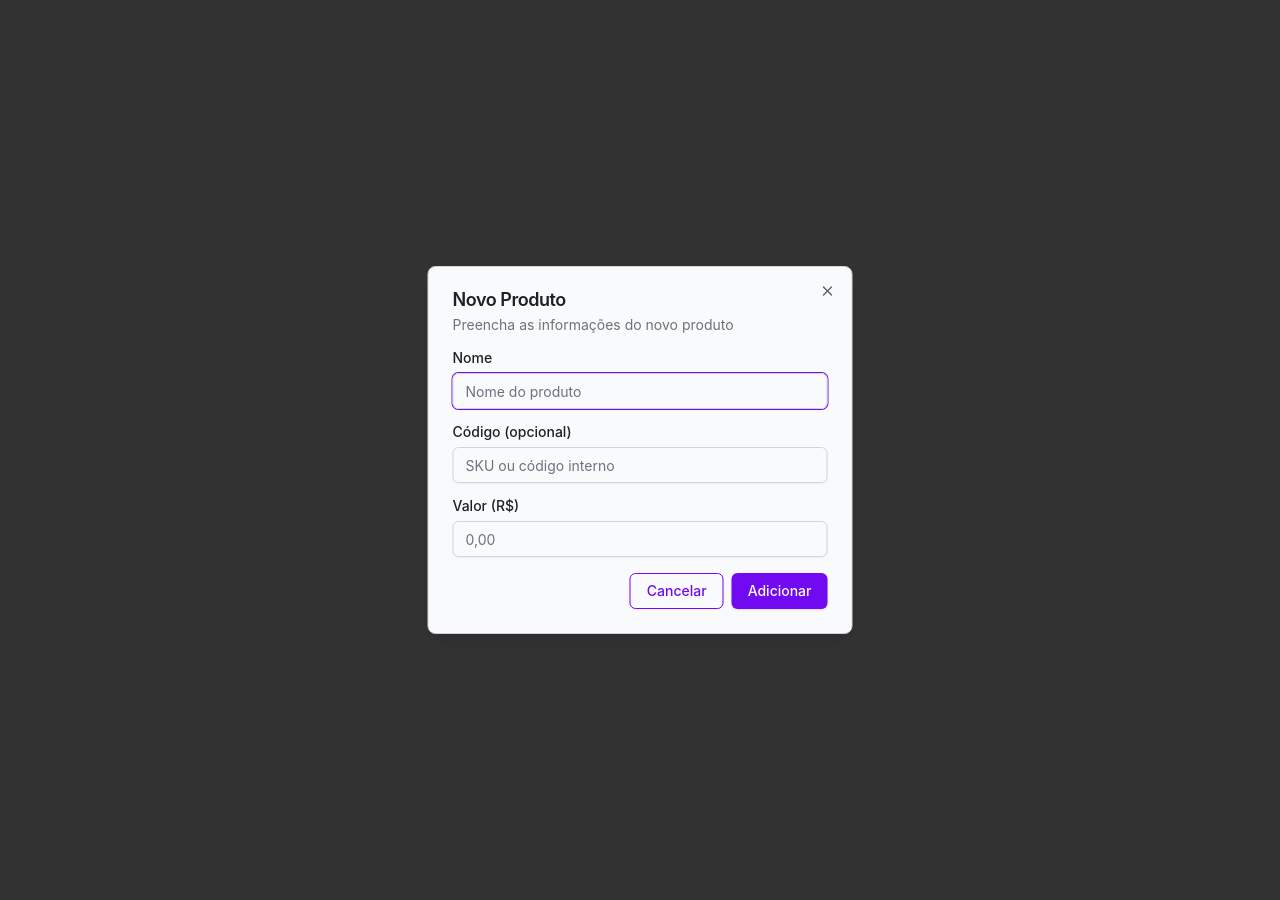
Scenario: FormularioProduto › validation › deve exibir erro quando valor é inválido
This screenshot has width=1280, height=900.
In the field labelled "Nome": (640, 391) x1=452 y1=373 x2=828 y2=409, type "Produto Teste"
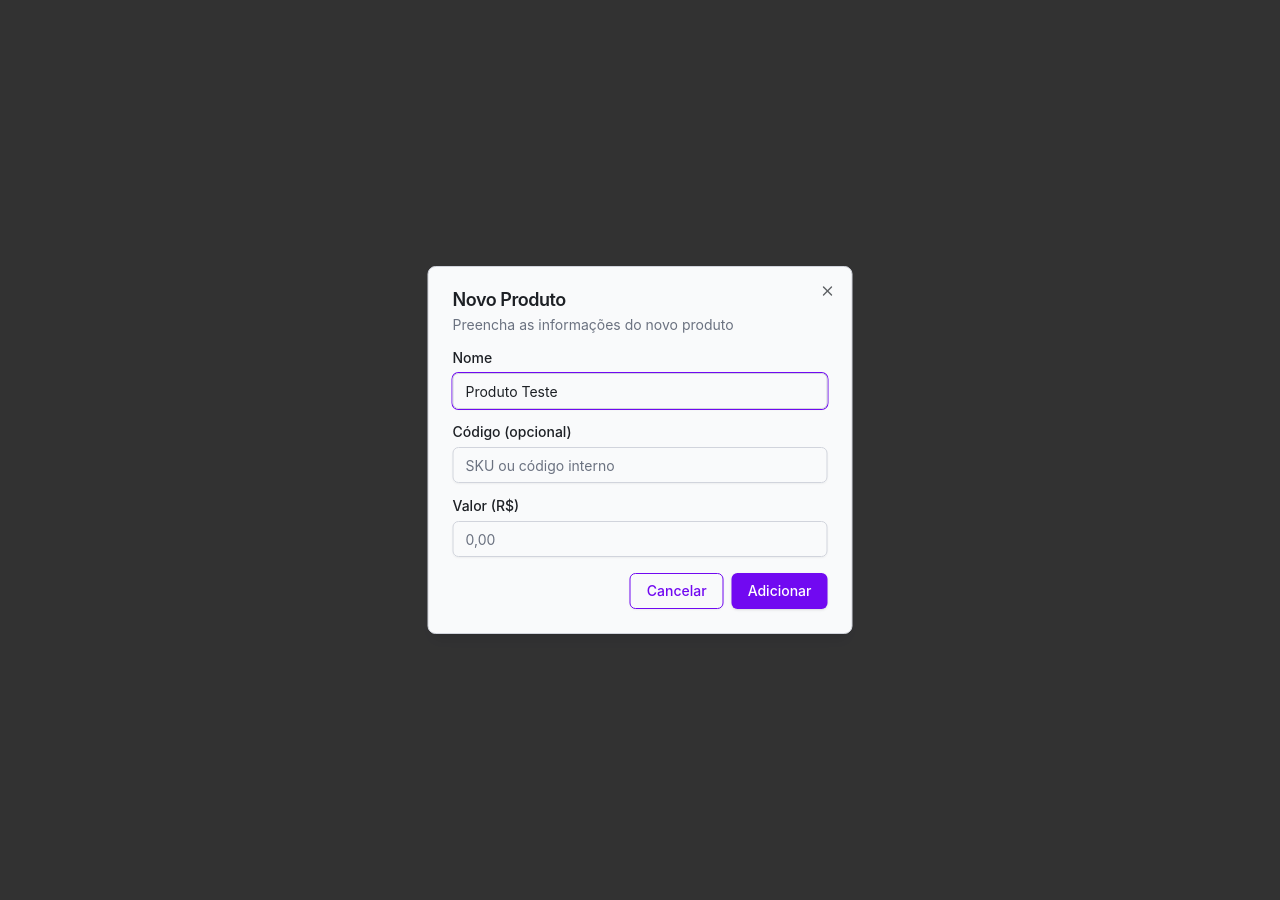
In the field labelled "Valor (R$)": (640, 539) x1=452 y1=521 x2=828 y2=557, type "abc"
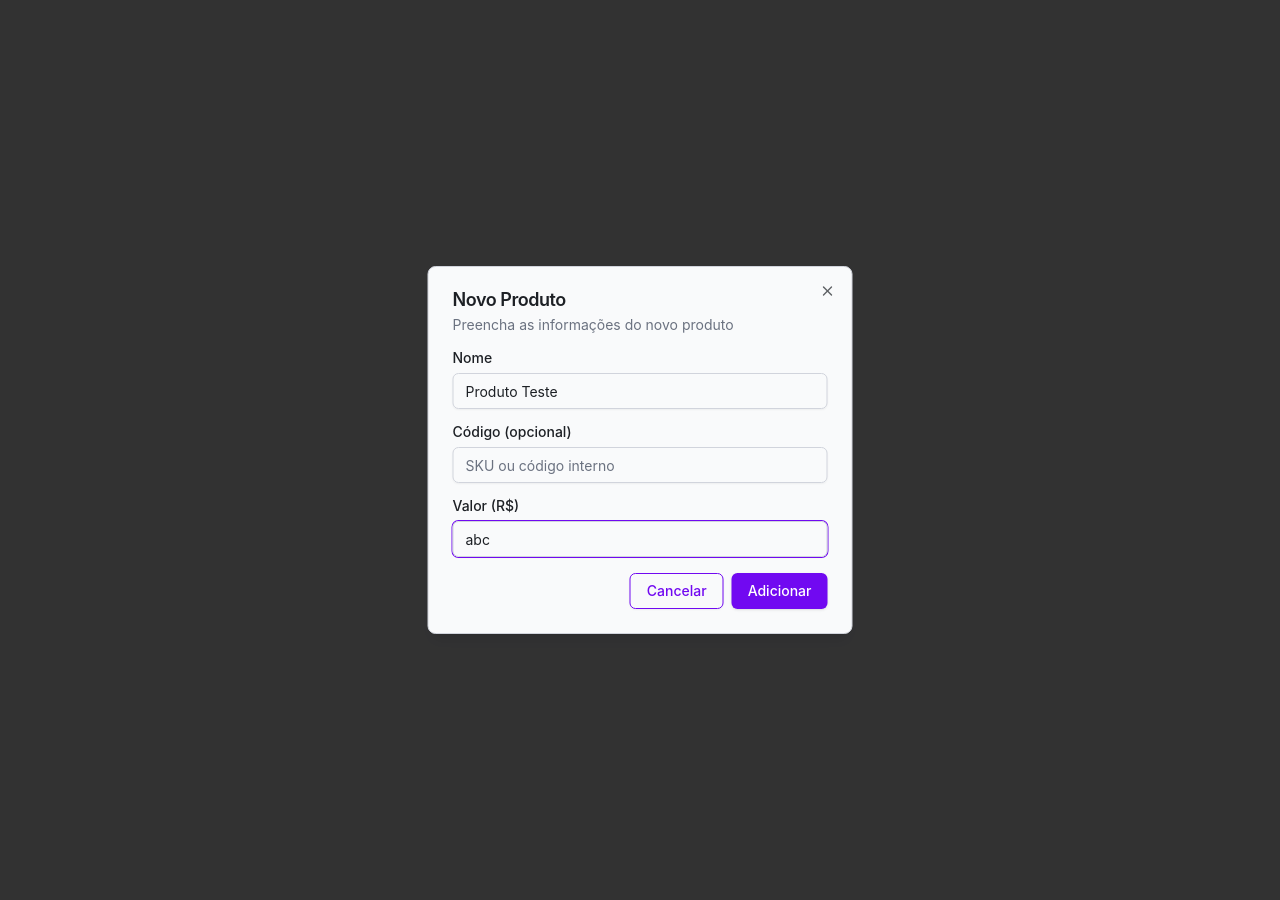
Click the button "Adicionar": (780, 591) x1=732 y1=573 x2=828 y2=609
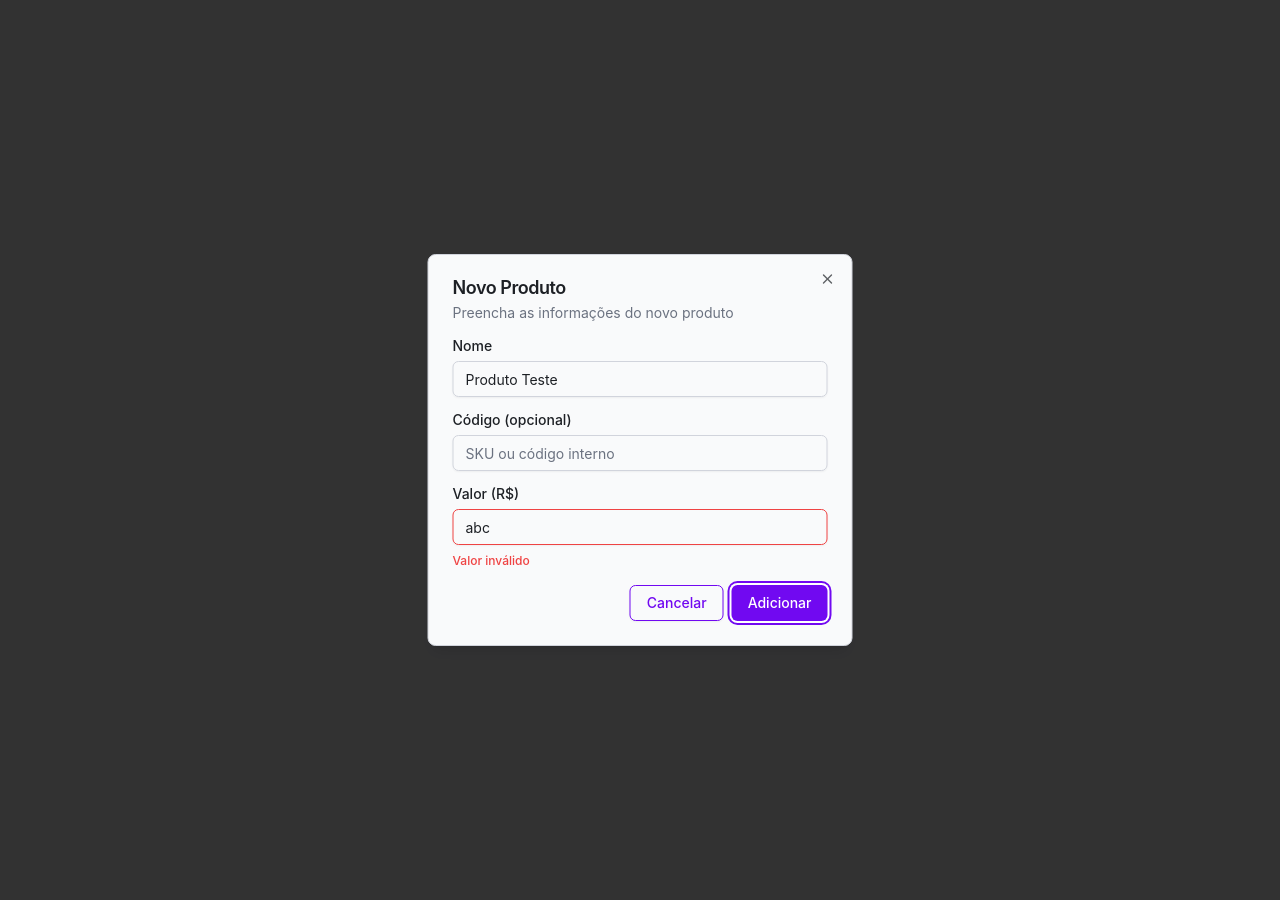
Result: the text "Valor inválido" is shown at x1=452 y1=553 x2=530 y2=568
